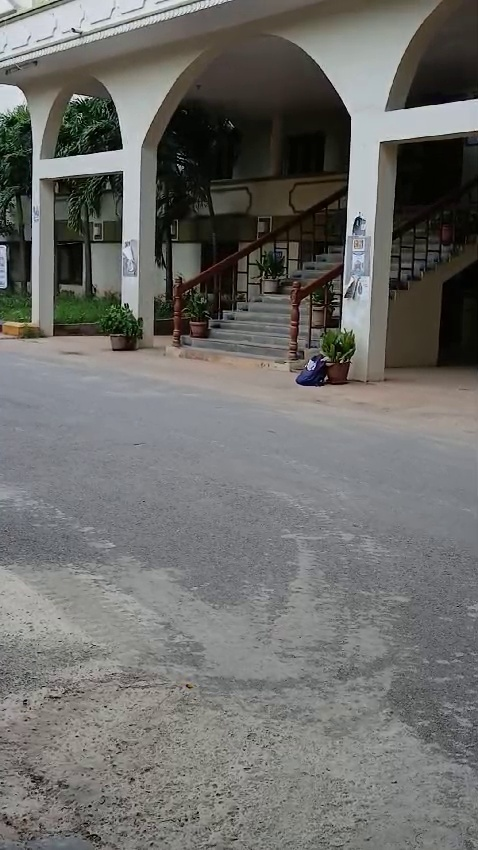bag: (300, 357, 327, 393)
